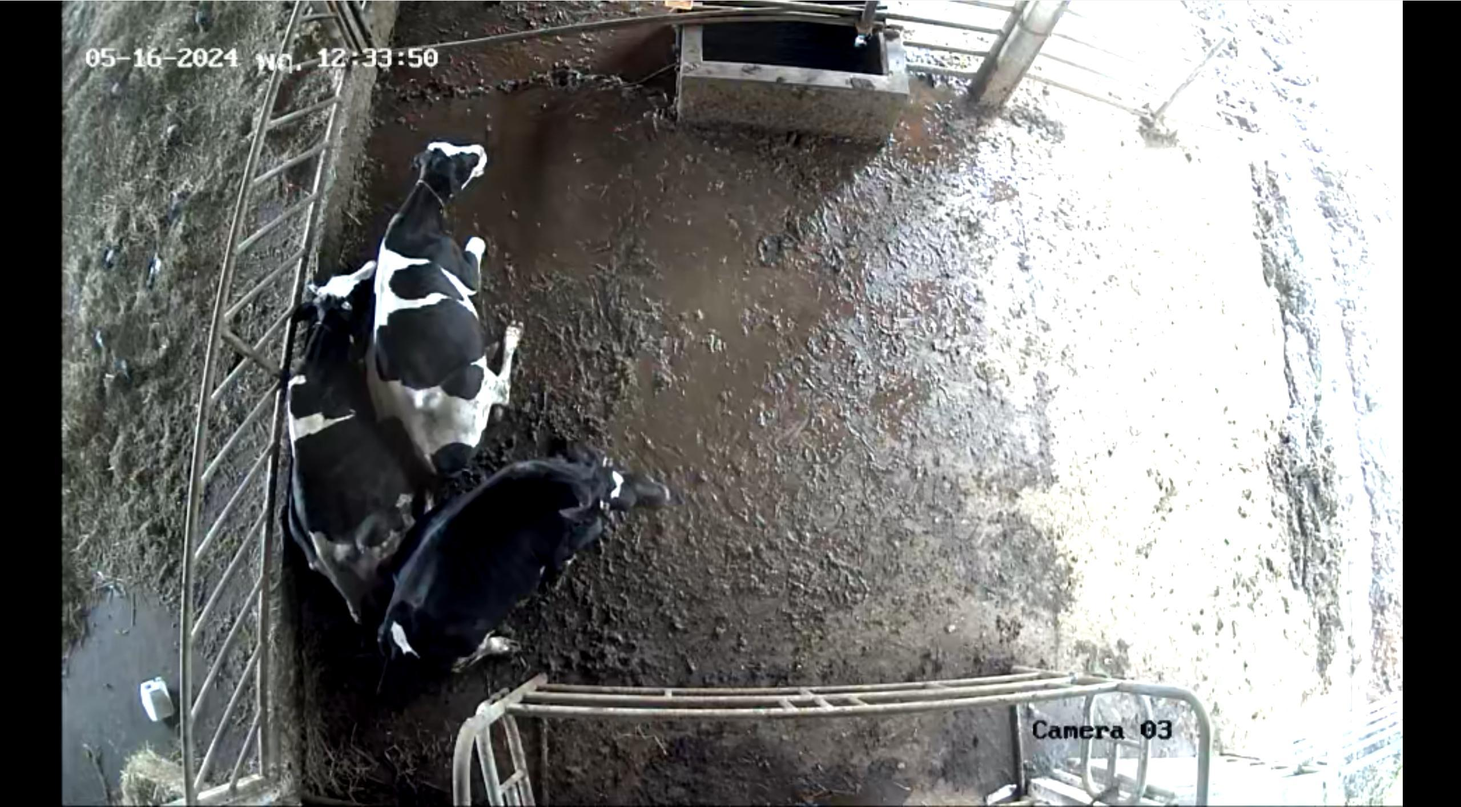lay: (376, 443, 678, 692), (371, 121, 531, 479), (276, 258, 422, 627)
